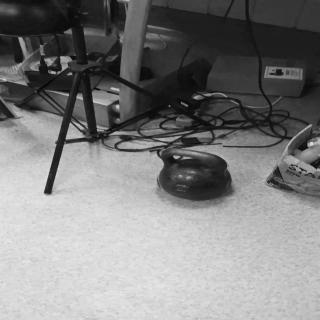kettlebell: (154, 145, 236, 203)
